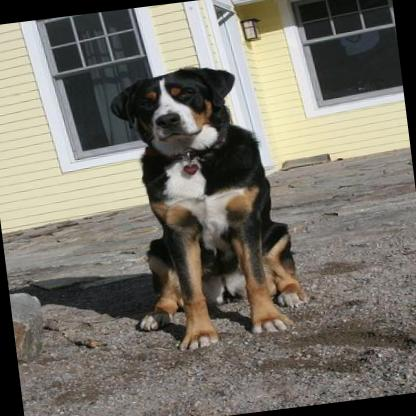Greater_Swiss_Mountain_dog: (96, 51, 316, 372)
